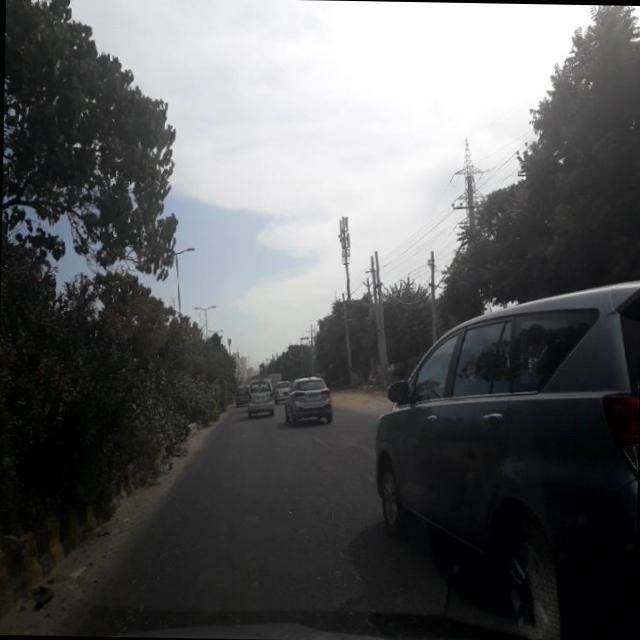crack: (146, 428, 387, 622)
